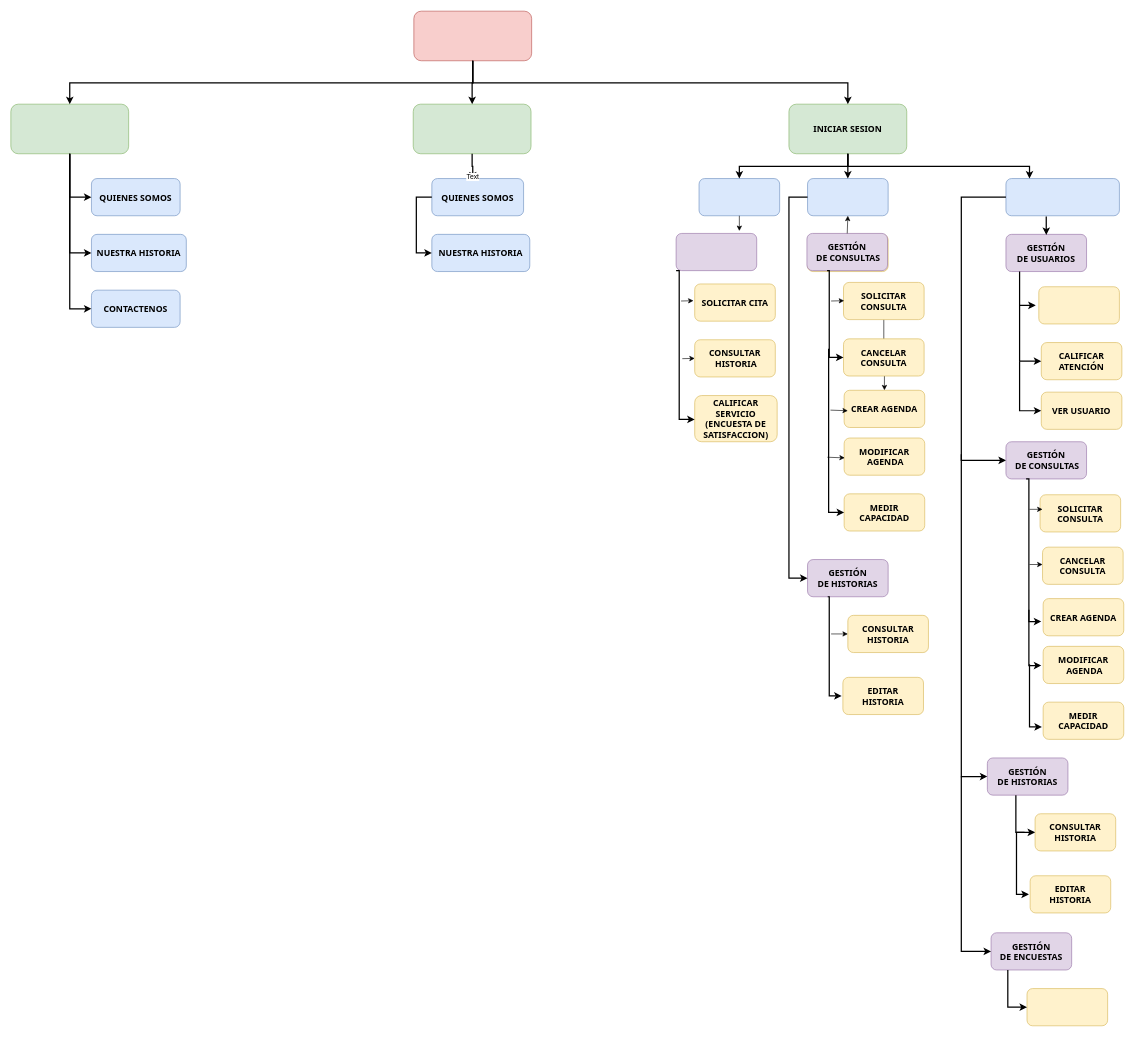
Some shapes in this 1135 by 1037 pixel diagram are drawn without their labels. The box of each missing label's shape, as (x1, y1, x2, y2) in pixels:
CONSULTAR COMENTARIOS: (1026, 988, 1108, 1026)
EDITAR USUARIO: (1038, 286, 1119, 324)
GESTIÓN DE PACIENTES: (675, 233, 757, 271)
INICIO: (413, 11, 532, 61)
MÉDICO: (807, 178, 888, 216)
PACIENTE: (698, 178, 780, 216)
REGISTRO: (413, 104, 531, 154)
SOMOS: (10, 104, 129, 154)
SUPER ADMINISTRADOR: (1005, 178, 1119, 216)
